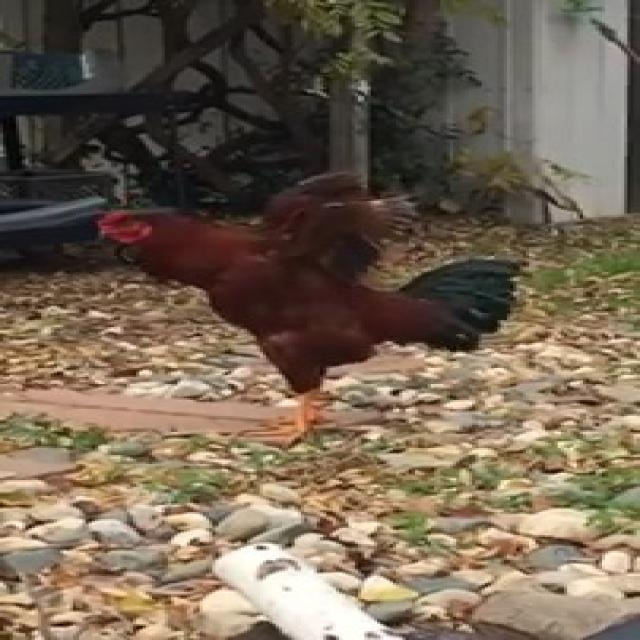wing flap: (73, 181, 526, 448)
